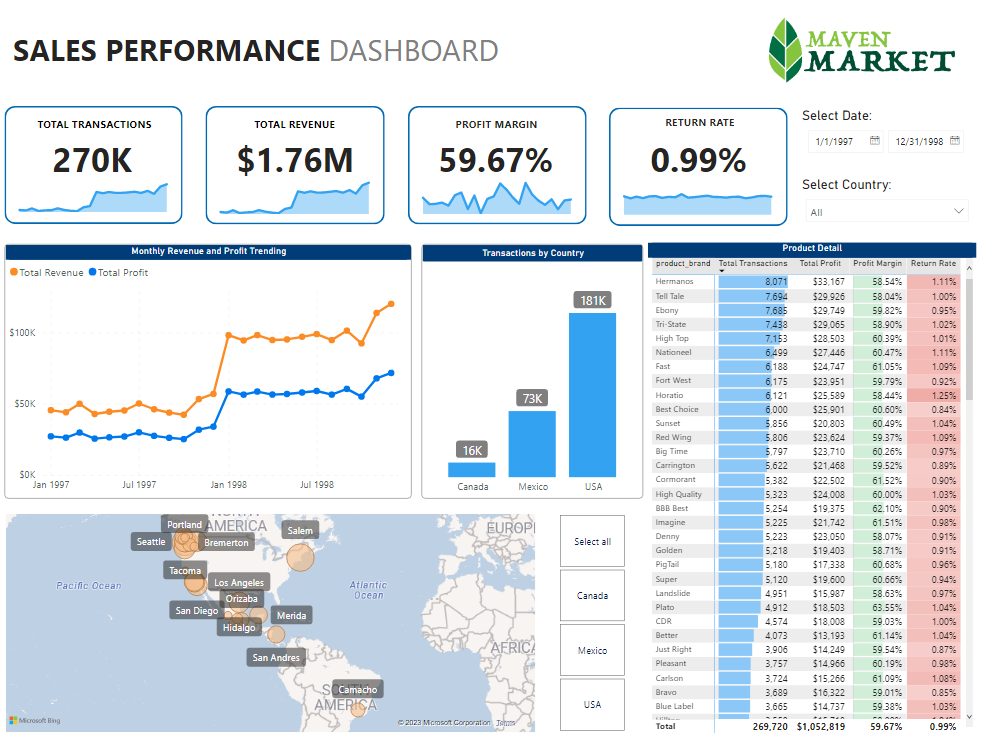

What the dashboard file says about the page in this screenshot:
{"tool":"powerbi","page":{"name":"Sales Performance Dashboard","canvas":[1280,960],"ordinal":0},"visuals":[{"type":"image","box":[960,17.9,293.8,105],"z":0},{"type":"shape","box":[18.3,142.4,226.8,150.1],"z":500,"group":"g1"},{"type":"shape","box":[273.1,142.4,228.1,150.8],"z":500,"group":"g2"},{"type":"shape","box":[530.4,142.4,227.6,150.8],"z":500,"group":"g3"},{"type":"shape","box":[786.3,143,227.2,150.8],"z":500,"group":"g4"},{"type":"pivotTable","title":"Product Detail","fields":{"Values":["Transaction_Data.Total Transactions","Transaction_Data.Total Profit","Transaction_Data.Profit Margin","Return_Data.Return Rate"],"Rows":["Products.product_brand"]},"box":[835.6,315.6,417.8,630],"z":1000},{"type":"areaChart","fields":{"Category":["Calendar.Start of Month"],"Y":["Transaction_Data.Total Transactions"]},"box":[22.1,194.4,217.6,88.4],"z":1500,"group":"g1"},{"type":"areaChart","fields":{"Category":["Calendar.Start of Month"],"Y":["Transaction_Data.Total Revenue"]},"box":[276.8,194.6,218.9,88.8],"z":1500,"group":"g2"},{"type":"areaChart","fields":{"Category":["Calendar.Start of Month"],"Y":["Transaction_Data.Profit Margin"]},"box":[534.1,194.6,218.4,88.8],"z":1500,"group":"g3"},{"type":"areaChart","fields":{"Category":["Calendar.Start of Month"],"Y":["Return_Data.Return Rate"]},"box":[790,195.2,218,88.8],"z":1500,"group":"g4"},{"type":"card","title":"asas","fields":{"Values":["Return_Data.Return Rate"]},"box":[785.7,136.8,227.4,140],"z":1750,"group":"g4"},{"type":"card","title":"asas","fields":{"Values":["Transaction_Data.Total Transactions"]},"box":[15.7,138.2,227,139.4],"z":1750,"group":"g1"},{"type":"card","title":"asas","fields":{"Values":["Transaction_Data.Total Revenue"]},"box":[272.4,138.2,228.4,140],"z":1750,"group":"g2"},{"type":"card","title":"asas","fields":{"Values":["Transaction_Data.Profit Margin"]},"box":[529,138.2,227.9,140],"z":1750,"group":"g3"},{"type":"textbox","box":[788.3,147.2,227.4,28.6],"z":2000,"group":"g4"},{"type":"textbox","box":[16.9,148.9,229.1,28.2],"z":2000,"group":"g1"},{"type":"textbox","box":[271.1,148.9,230.9,32.7],"z":2000,"group":"g2"},{"type":"textbox","box":[529.9,148.9,229.1,31.8],"z":2000,"group":"g3"},{"type":"slicer","fields":{"Values":["Stores.store_country"]},"box":[698,654,132,288],"z":2000},{"type":"map","fields":{"Category":["Stores.store_city"],"Size":["Transaction_Data.Total Revenue"]},"box":[14,654,684,288],"z":3000},{"type":"columnChart","title":"Transactions by Country","fields":{"Category":["Stores.store_country","Stores.store_state","Stores.store_city"],"Y":["Transaction_Data.Total Transactions"]},"box":[548,316,282,324],"z":4000},{"type":"lineChart","title":"Monthly Revenue and Profit Trending","fields":{"Category":["Calendar.Start of Month"],"Y":["Transaction_Data.Total Revenue"],"Y2":["Transaction_Data.Total Profit"]},"box":[18,316,518,324],"z":5000},{"type":"group","id":"g1","title":"Group 2","box":[15.7,138.2,230.3,154.3],"z":8000},{"type":"group","id":"g2","title":"Group 2","box":[271.1,138.2,230.9,155],"z":9000},{"type":"group","id":"g3","title":"Group 2","box":[529,138.2,230,155],"z":10000},{"type":"group","id":"g4","title":"Group 2","box":[785.7,136.8,230,157.1],"z":11000},{"type":"textbox","box":[22.9,38.9,740.5,63],"z":14000},{"type":"slicer","title":"Select Date:","fields":{"Values":["Calendar.date"]},"box":[1026.2,143.8,227.5,62.5],"z":15000},{"type":"slicer","title":"Select Country:","fields":{"Values":["Stores.store_country"]},"box":[1026.2,230,227.5,62.5],"z":15001}]}

Visuals, with their boxes in screenshot pixels (x1, y1, x2, y2), scaled from the page's 1280x960 canvas onto the 984x738 screenshot:
image: crop(738, 14, 964, 94)
shape: crop(14, 109, 188, 225)
shape: crop(210, 109, 385, 225)
shape: crop(408, 109, 583, 225)
shape: crop(604, 110, 779, 226)
"Product Detail" pivotTable: crop(642, 243, 964, 727)
areaChart - Calendar.Start of Month x Transaction_Data.Total Transactions: crop(17, 149, 184, 217)
areaChart - Calendar.Start of Month x Transaction_Data.Total Revenue: crop(213, 150, 381, 218)
areaChart - Calendar.Start of Month x Transaction_Data.Profit Margin: crop(411, 150, 578, 218)
areaChart - Calendar.Start of Month x Return_Data.Return Rate: crop(607, 150, 775, 218)
"asas" card: crop(604, 105, 779, 213)
"asas" card: crop(12, 106, 187, 213)
"asas" card: crop(209, 106, 385, 214)
"asas" card: crop(407, 106, 582, 214)
textbox: crop(606, 113, 781, 135)
textbox: crop(13, 114, 189, 136)
textbox: crop(208, 114, 386, 140)
textbox: crop(407, 114, 583, 139)
slicer - Stores.store_country: crop(537, 503, 638, 724)
map - Stores.store_city x Transaction_Data.Total Revenue: crop(11, 503, 537, 724)
"Transactions by Country" columnChart: crop(421, 243, 638, 492)
"Monthly Revenue and Profit Trending" lineChart: crop(14, 243, 412, 492)
"Group 2" group: crop(12, 106, 189, 225)
"Group 2" group: crop(208, 106, 386, 225)
"Group 2" group: crop(407, 106, 583, 225)
"Group 2" group: crop(604, 105, 781, 226)
textbox: crop(18, 30, 587, 78)
"Select Date:" slicer: crop(789, 111, 964, 159)
"Select Country:" slicer: crop(789, 177, 964, 225)
